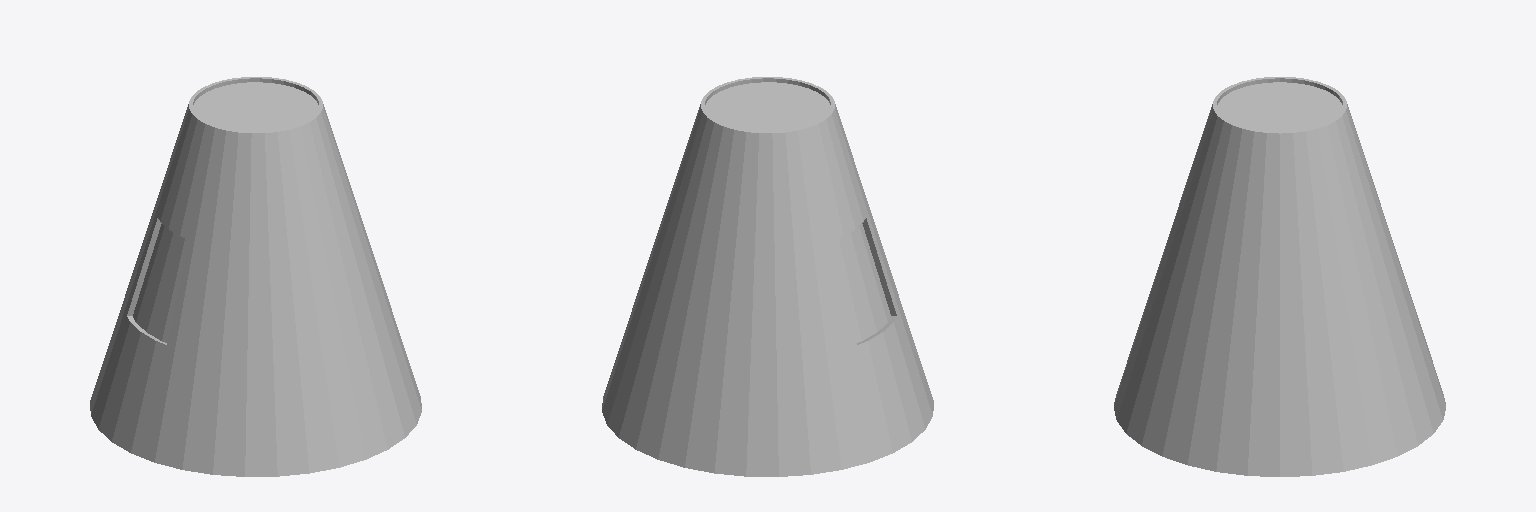
The model's file is Mk-1 Command Pod.obj.
3 views of the same model, side by side, from view 1: azimuth 30°, elevation 25°; view 2: azimuth 150°, elevation 25°; view 3: azimuth 270°, elevation 25° (orthographic).
Visible parts, largest first — view 1: Cylinder_Cylinder.001; view 2: Cylinder_Cylinder.001; view 3: Cylinder_Cylinder.001.
Boxes of the visible parts, <box> form: Cylinder_Cylinder.001: <box>90,77,421,476</box>; Cylinder_Cylinder.001: <box>602,77,933,476</box>; Cylinder_Cylinder.001: <box>1114,77,1445,476</box>.
Size of the model in its own units: 2 by 2 by 2.